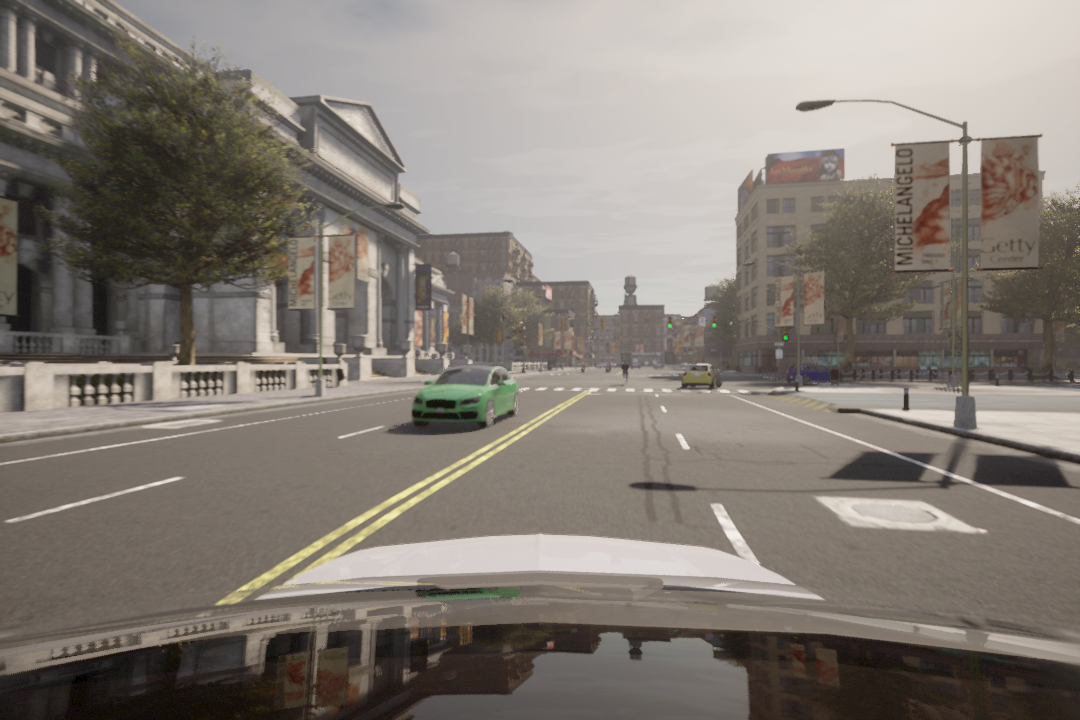walkside: (521, 384, 773, 397)
